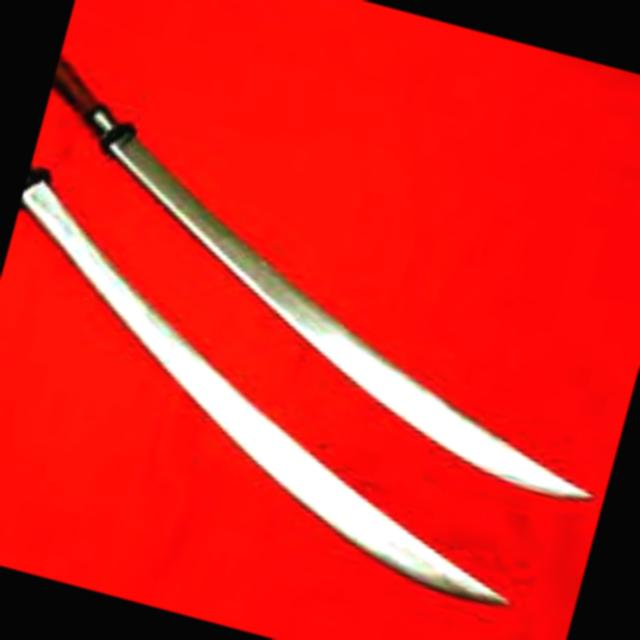long sword: (0, 64, 640, 510), (0, 153, 591, 614)
